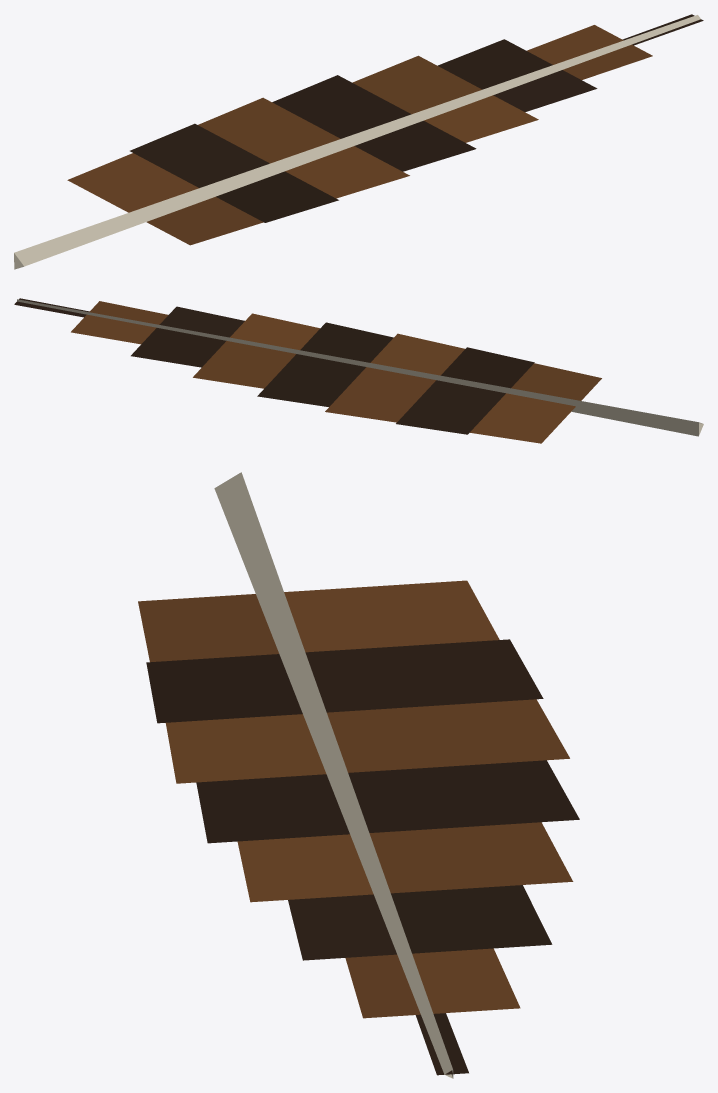
The model's file is feather_hawk.glb.
3 views of the same model, one above another, from view 1: azimuth 30°, elevation 25°; view 2: azimuth 150°, elevation 25°; view 3: azimuth 270°, elevation 25° (orthographic). The views are drawn at different scales.
Visible parts, largest first — view 1: feather_hawk; view 2: feather_hawk; view 3: feather_hawk.
Boxes of the visible parts, <box> form: feather_hawk: <box>14,14,703,269</box>; feather_hawk: <box>14,298,703,443</box>; feather_hawk: <box>138,472,579,1078</box>.
Bounding box in the file's own units: 0.1982 × 0.00681 × 0.0602.
